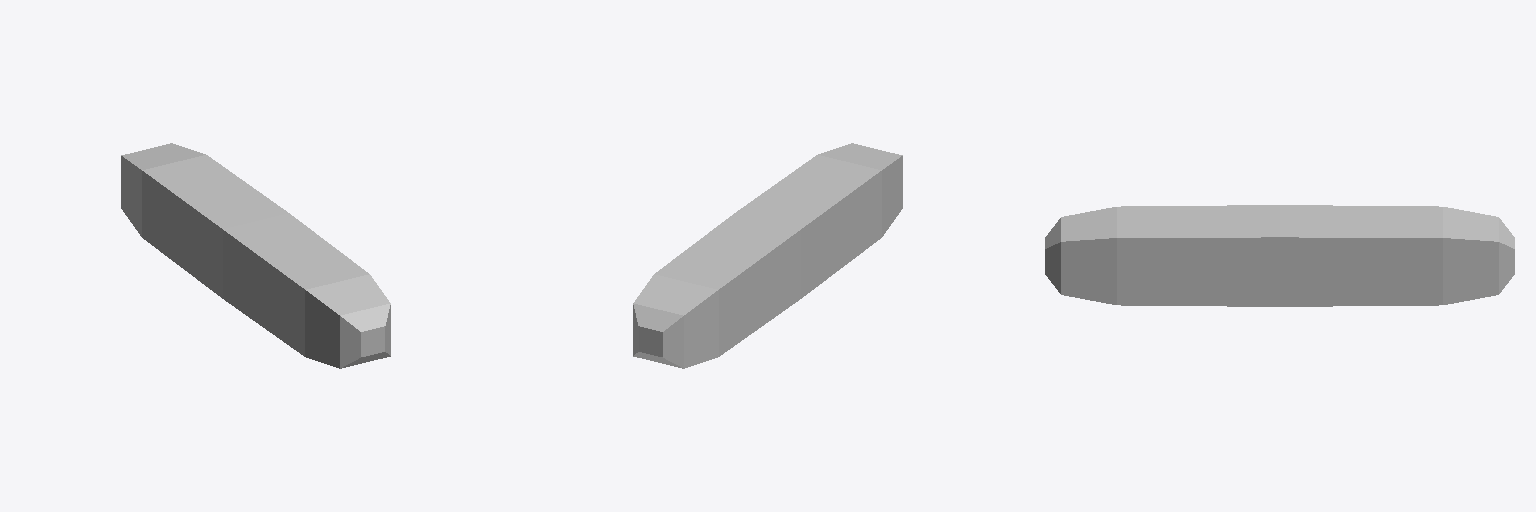
Rendered from Head.obj.
3 views of the same model, side by side, from view 1: azimuth 30°, elevation 25°; view 2: azimuth 150°, elevation 25°; view 3: azimuth 270°, elevation 25° (orthographic).
Parts seen in each view (by area): view 1: ../rami/model/Head; view 2: ../rami/model/Head; view 3: ../rami/model/Head.
Boxes of the visible parts, x1=… form: ../rami/model/Head: x1=121, y1=143, x2=390, y2=368; ../rami/model/Head: x1=633, y1=143, x2=902, y2=368; ../rami/model/Head: x1=1045, y1=205, x2=1514, y2=306.
Size of the model in its own units: 0.7411 by 0.7411 by 4.53.